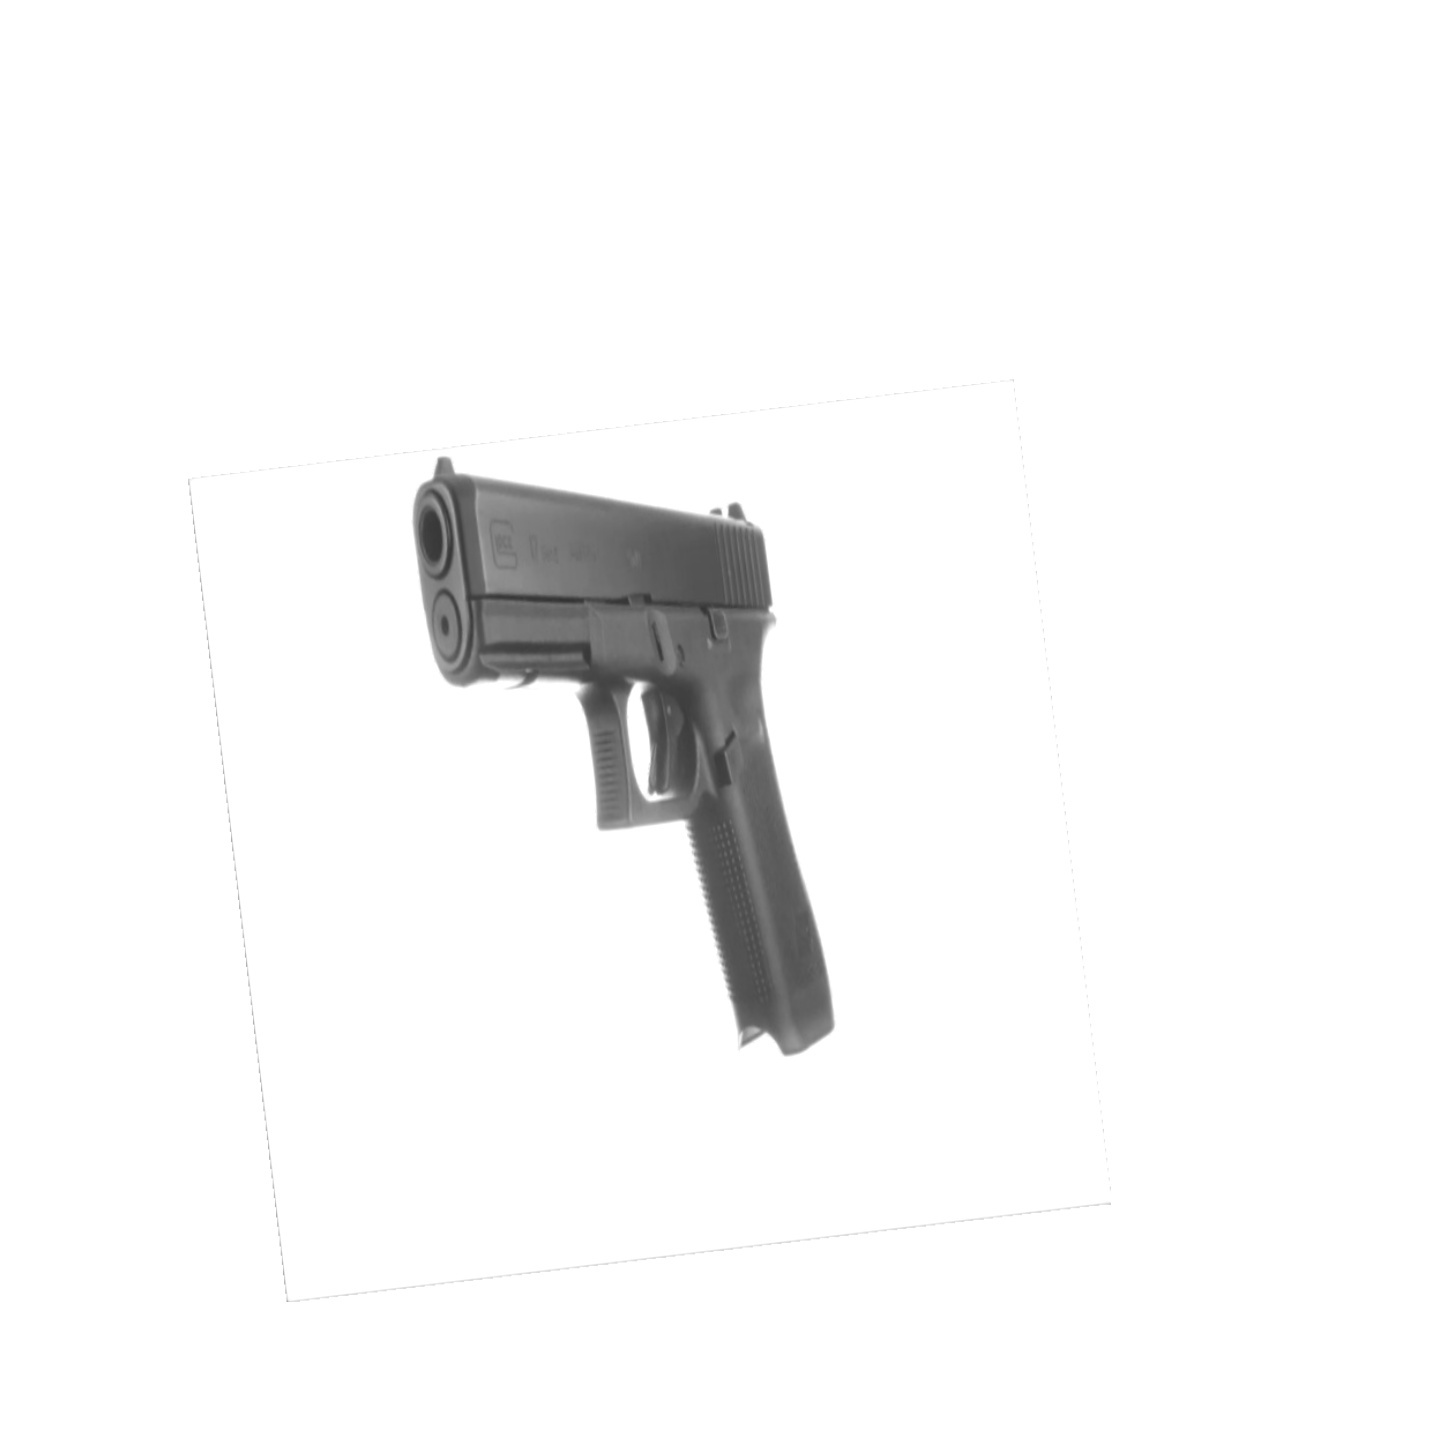gun: (404, 449, 847, 1067)
